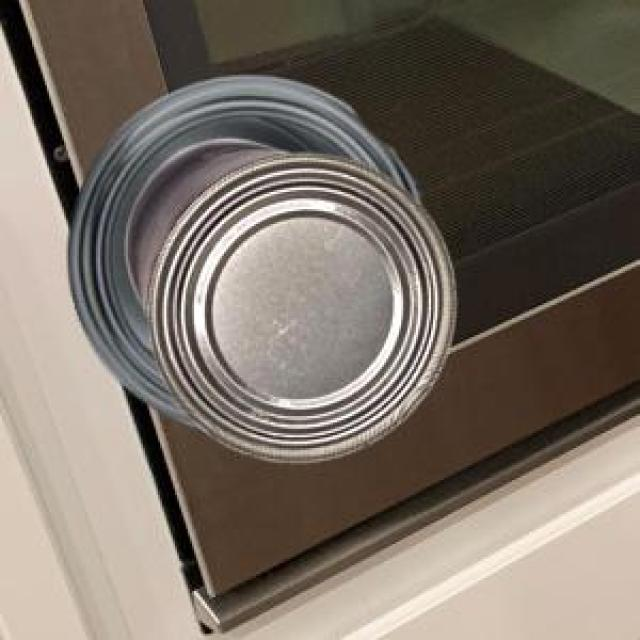Can: (65, 71, 417, 423), (123, 135, 453, 460)
